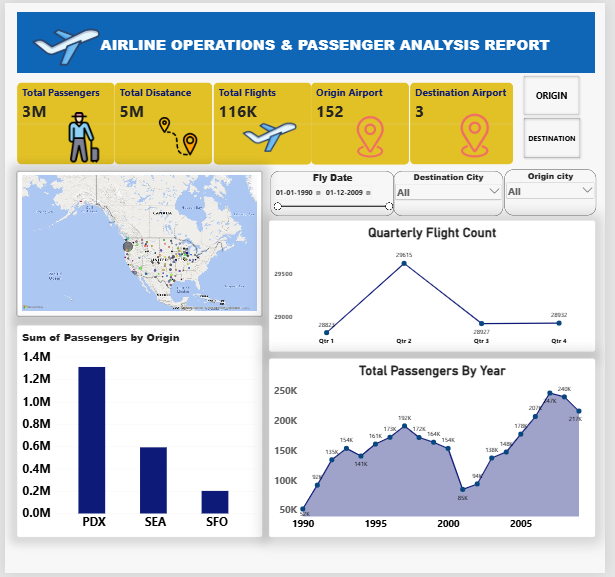

This screenshot's page, from the dashboard's own definition file:
{"tool":"powerbi","page":{"name":"Page 1","canvas":[2000,1900],"ordinal":0},"visuals":[{"type":"textbox","box":[39.8,30.9,1926.4,203.2],"z":0},{"type":"image","box":[39.8,30.9,327,234.2],"z":1000},{"type":"cardVisual","fields":{"Data":["Sum(airport_.Passengers)"]},"box":[39.8,265.1,327,273.9],"z":2000},{"type":"cardVisual","fields":{"Data":["Sum(airport_.Distance)"]},"box":[366.7,265.1,327,273.9],"z":3000},{"type":"cardVisual","fields":{"Data":["Sum(airport_.Flights)"]},"box":[693.7,265.1,327,274],"z":4000},{"type":"cardVisual","fields":{"Data":["Count(airport_.Origin_airport)"]},"box":[1020.6,265.1,327,274],"z":5000},{"type":"cardVisual","fields":{"Data":["Count(airport_.Destination_airport)"]},"box":[1347.6,265.1,344.6,273.9],"z":6000},{"type":"image","box":[746.7,353.5,273.9,185.6],"z":7000},{"type":"image","box":[1139.9,353.5,154.6,181.2],"z":8000},{"type":"image","box":[494.9,380,163.5,128.1],"z":9000},{"type":"image","box":[114.9,353.5,296,185.6],"z":10000},{"type":"image","box":[1440.4,362.3,251.8,163.5],"z":11000},{"type":"map","fields":{"Series":["airport_.Origin_airport"],"Size":["Sum(airport_.Passengers)"],"X":["airport_.Org_airport_long"],"Y":["airport_.Org_airport_lat"]},"box":[40,557.5,817.5,485],"z":12000},{"type":"columnChart","title":"Sum of Passengers by Origin","fields":{"Category":["airport_.Origin_airport"],"Y":["Sum(airport_.Passengers)"]},"box":[40,1072.5,817.5,705],"z":14000},{"type":"lineChart","title":"Quarterly Flight Count","fields":{"Category":["airport_.Fly_date.Variation.Date Hierarchy.Quarter"],"Y":["Sum(airport_.Flights)"]},"box":[880,725,1087.5,437.5],"z":16000},{"type":"areaChart","title":"Total Passengers By Year","fields":{"Category":["airport_.Fly_date.Variation.Date Hierarchy.Year","airport_.Fly_date.Variation.Date Hierarchy.Quarter","airport_.Fly_date.Variation.Date Hierarchy.Month","airport_.Fly_date.Variation.Date Hierarchy.Day"],"Y":["Sum(airport_.Passengers)"]},"box":[880,1182.5,1087.5,595],"z":17000},{"type":"slicer","title":"Fly Date","fields":{"Values":["airport_.Fly_date"]},"box":[882.5,557.5,412.5,150],"z":18000},{"type":"slicer","title":"Origin city","fields":{"Values":["airport_.Origin_city"]},"box":[1662.5,555,305,152.5],"z":19000},{"type":"slicer","title":"Destination City","fields":{"Values":["airport_.Destination_city"]},"box":[1295,557.5,365,150],"z":20000},{"type":"actionButton","box":[1720,233.3,203.3,146.7],"z":21000},{"type":"actionButton","box":[1720,376.7,206.7,150],"z":22000}]}

Visuals, with their boxes in screenshot pixels (x1, y1, x2, y2), scaled from the page's 2000x1900 canvas onto the 615x577 screenshot:
textbox: 12 9 605 71
image: 12 9 113 81
cardVisual - Sum(airport_.Passengers): 12 81 113 164
cardVisual - Sum(airport_.Distance): 113 81 213 164
cardVisual - Sum(airport_.Flights): 213 81 314 164
cardVisual - Count(airport_.Origin_airport): 314 81 414 164
cardVisual - Count(airport_.Destination_airport): 414 81 520 164
image: 230 107 314 164
image: 351 107 398 162
image: 152 115 202 154
image: 35 107 126 164
image: 443 110 520 160
map - airport_.Origin_airport x Sum(airport_.Passengers): 12 169 264 317
"Sum of Passengers by Origin" columnChart: 12 326 264 540
"Quarterly Flight Count" lineChart: 271 220 605 353
"Total Passengers By Year" areaChart: 271 359 605 540
"Fly Date" slicer: 271 169 398 215
"Origin city" slicer: 511 169 605 215
"Destination City" slicer: 398 169 510 215
actionButton: 529 71 591 115
actionButton: 529 114 592 160
